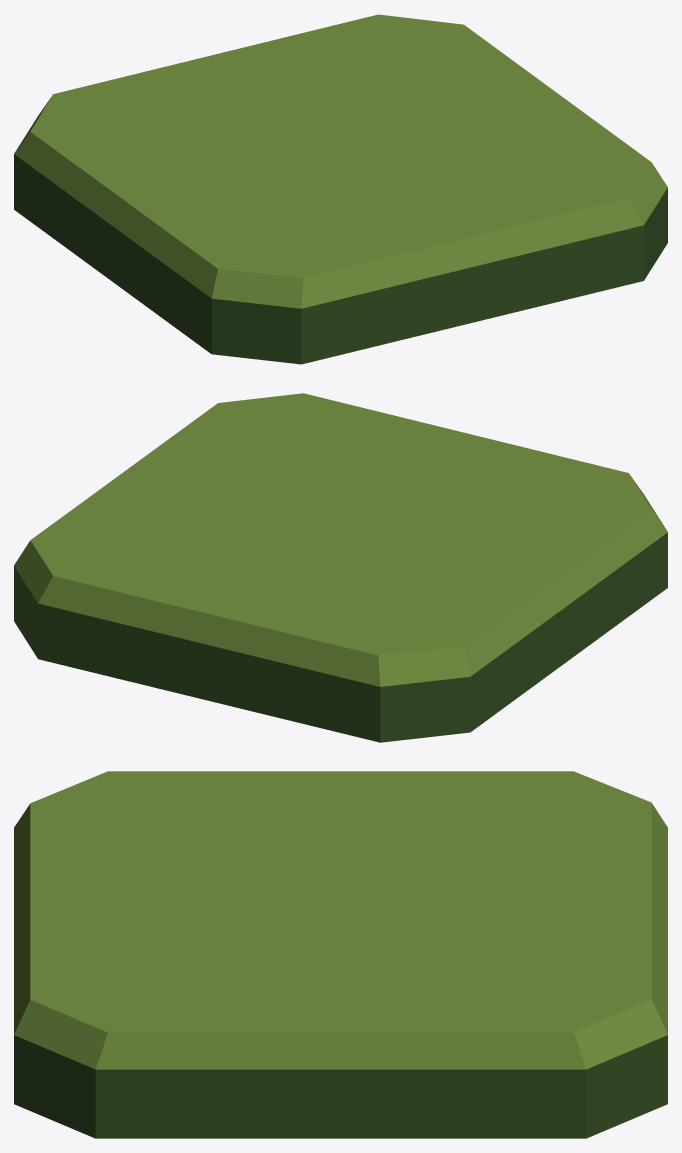
Rendered from gf_paver_b.glb.
The picture shows the model from 3 angles, top to bottom: view 1: azimuth 30°, elevation 25°; view 2: azimuth 150°, elevation 25°; view 3: azimuth 270°, elevation 25°; orthographic projection. The views are drawn at different scales.
Visible parts, largest first — view 1: gf_paver_b; view 2: gf_paver_b; view 3: gf_paver_b.
Part boxes in pixels (x1,y1,x2,y2): gf_paver_b: [14, 14, 667, 364]; gf_paver_b: [14, 393, 667, 742]; gf_paver_b: [14, 771, 667, 1138].
Size of the model in its own units: 0.24 by 0.0405 by 0.24.
